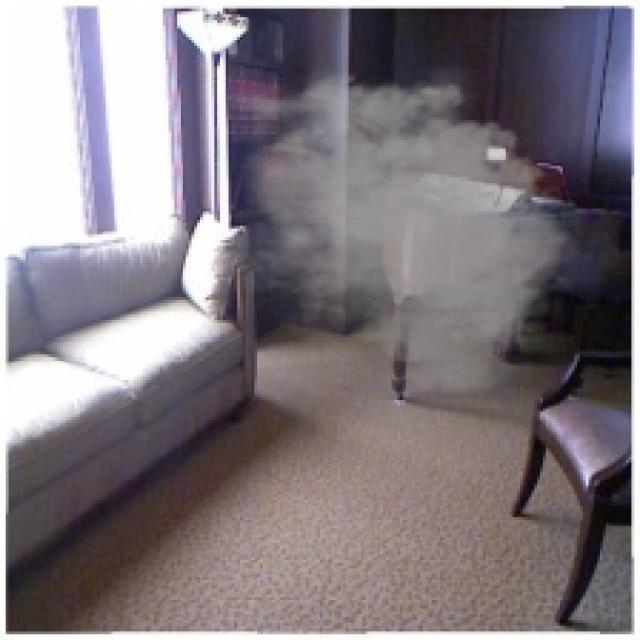Smoke: (214, 57, 589, 406)
